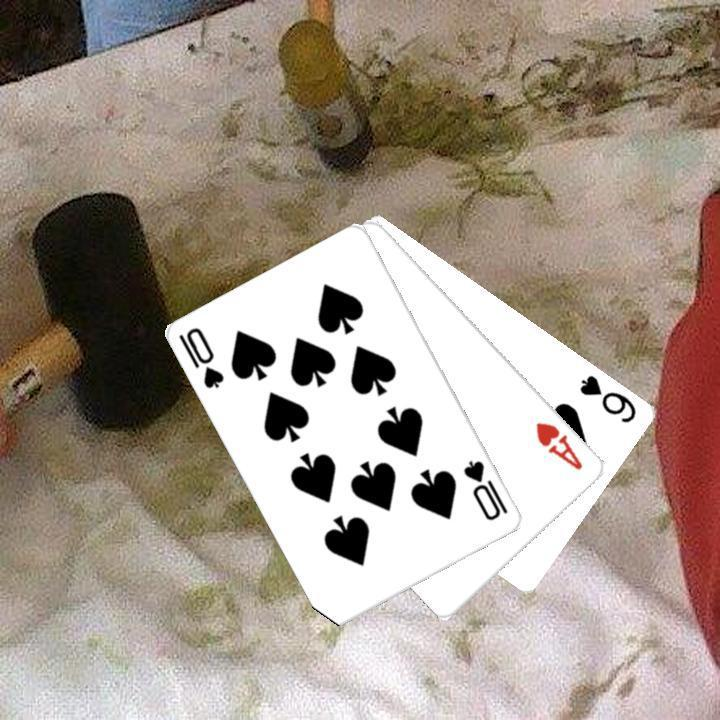10: (175, 323, 227, 391), (459, 456, 511, 523)
6: (576, 370, 639, 425)
A: (531, 417, 586, 472)
